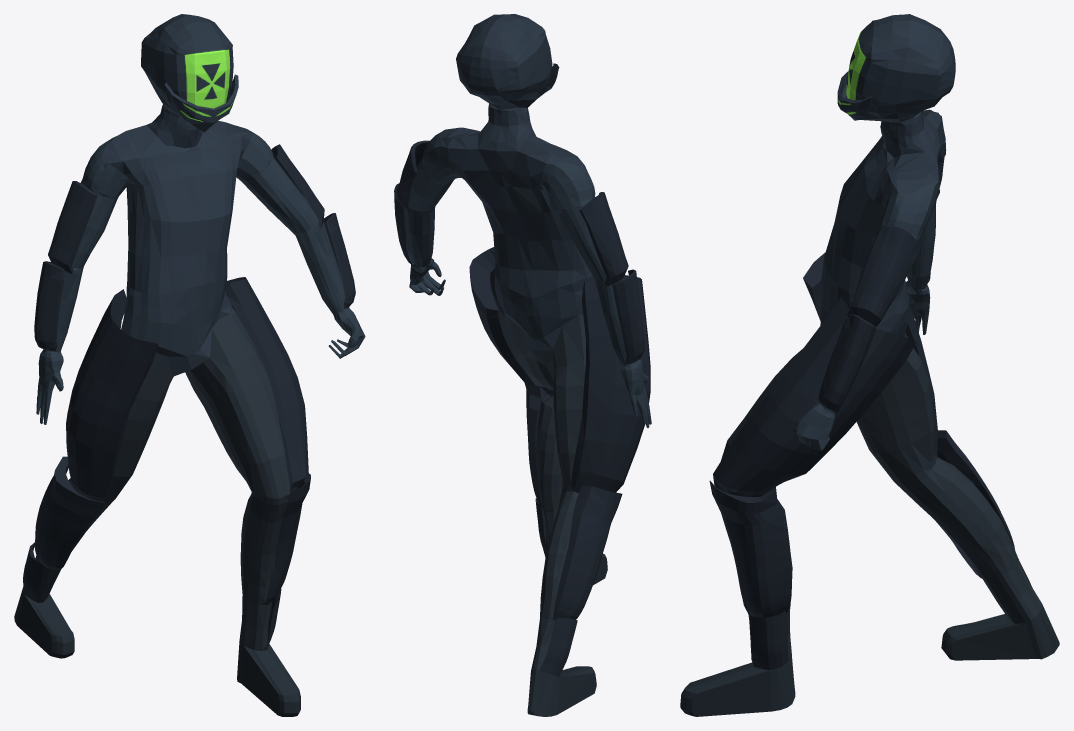
Rendered from Bastion_Hit_000012.obj.
The picture shows the model from 3 angles, left to right: view 1: azimuth 30°, elevation 25°; view 2: azimuth 150°, elevation 25°; view 3: azimuth 270°, elevation 25°; orthographic projection. The views are drawn at different scales.
Visible parts, largest first — view 1: Cube.002; view 2: Cube.002; view 3: Cube.002.
Boxes of the visible parts, box(x1,y1,x2,y2) form: Cube.002: box(14, 14, 365, 716); Cube.002: box(394, 14, 651, 716); Cube.002: box(680, 14, 1059, 716).
Bounding box in the file's own units: 1.71 × 3.66 × 1.82.
